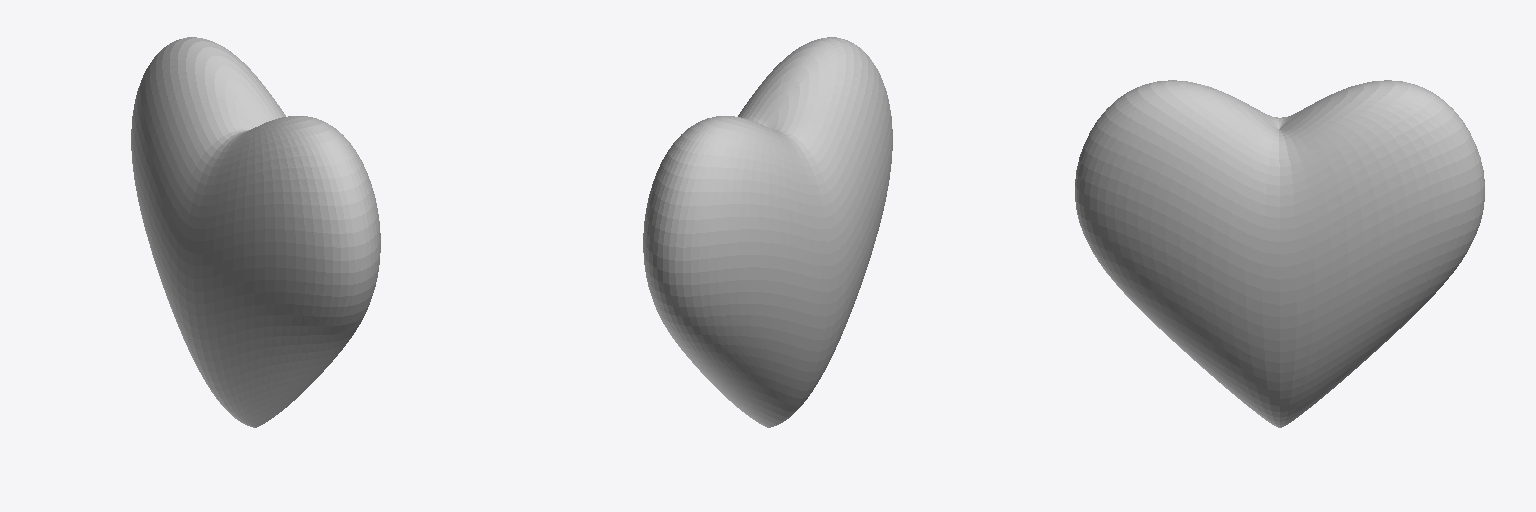
File: Heart.obj
3 views of the same model, side by side, from view 1: azimuth 30°, elevation 25°; view 2: azimuth 150°, elevation 25°; view 3: azimuth 270°, elevation 25° (orthographic).
Parts seen in each view (by area): view 1: Heart.003; view 2: Heart.003; view 3: Heart.003.
Part boxes in pixels (x1,y1,x2,y2): Heart.003: (131, 37, 380, 427); Heart.003: (643, 37, 892, 427); Heart.003: (1075, 80, 1484, 427).
Bounding box in the file's own units: 59.95 × 139 × 150.